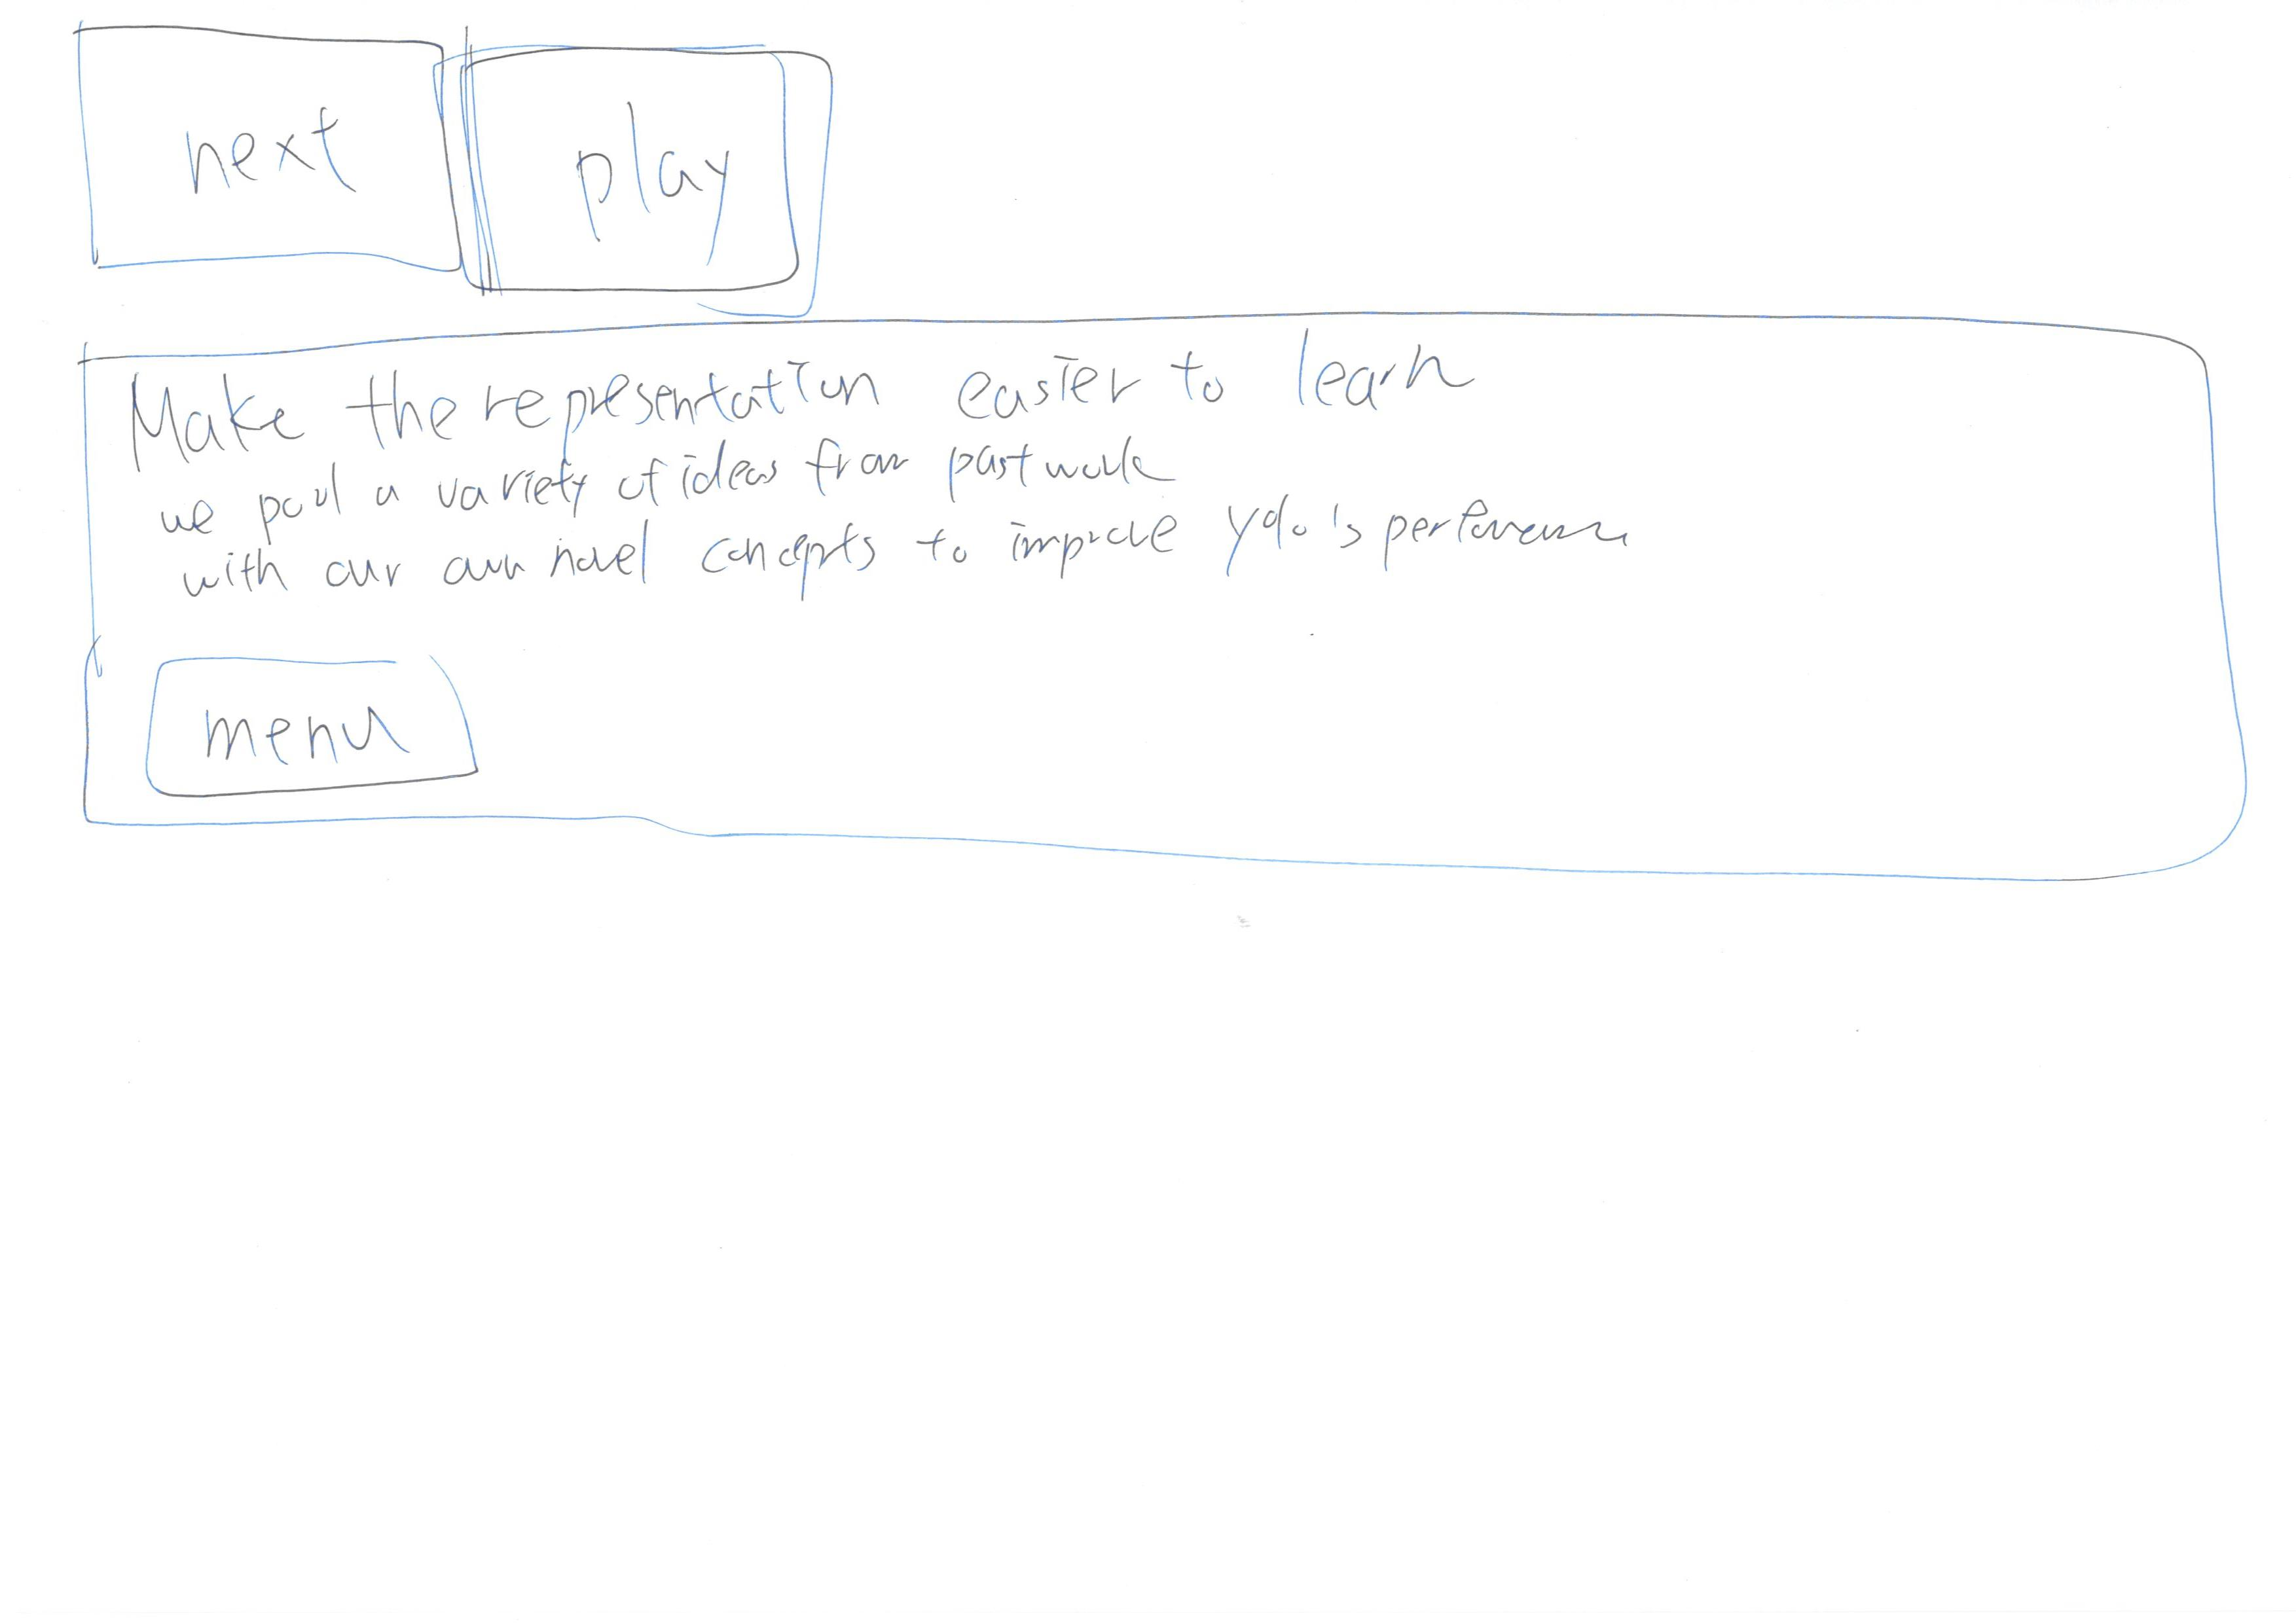menu: (114, 624, 529, 810)
next: (39, 2, 496, 309)
play: (418, 11, 867, 311)
row: (0, 301, 2296, 972), (0, 0, 2296, 376)
single: (19, 308, 2271, 953)
small-title: (88, 350, 1484, 446)
text: (172, 432, 1681, 613)
